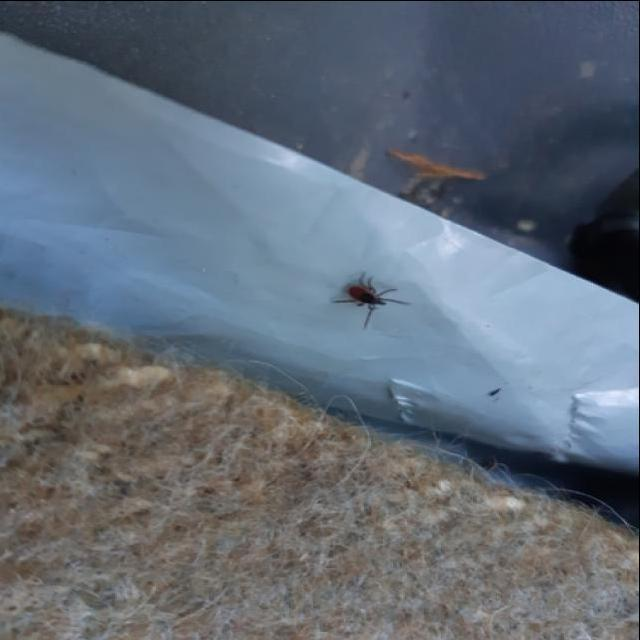Ixodes Ricinus-F: (329, 268, 413, 325)
